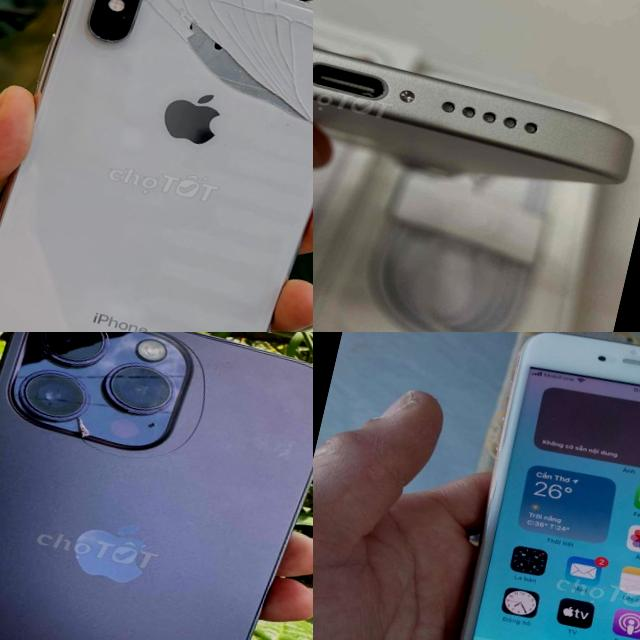gen_14: (0, 332, 313, 640)
gen_17: (313, 0, 640, 219)
gen_7_8: (416, 332, 640, 640)
gen_x_xs: (0, 0, 313, 332)
physical_damage: (155, 16, 275, 92), (197, 0, 313, 66), (256, 76, 313, 159), (205, 72, 274, 118), (86, 0, 214, 22)
scratch: (154, 332, 242, 418), (58, 423, 180, 478), (144, 400, 218, 476)
